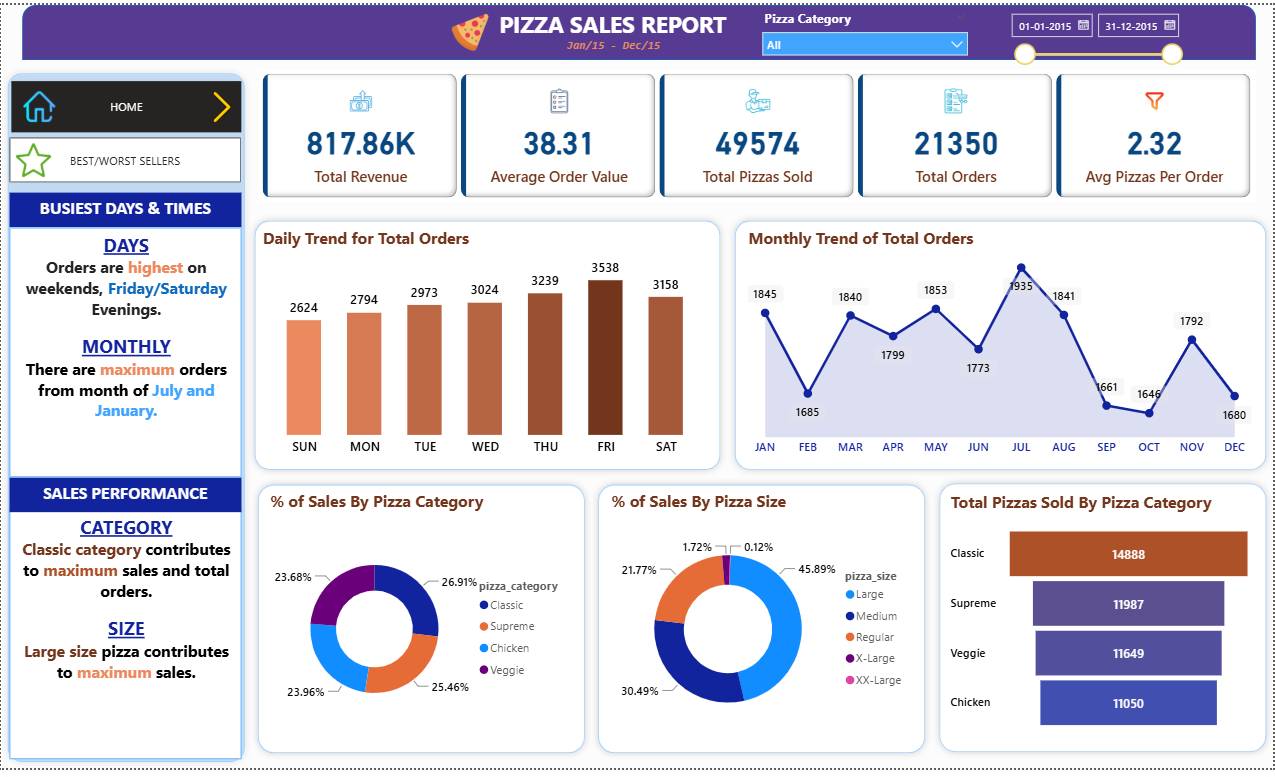

This screenshot's page, from the dashboard's own definition file:
{"tool":"powerbi","page":{"name":"HOME","canvas":[1500,900],"ordinal":0},"visuals":[{"type":"cardVisual","fields":{"Data":["pizza_sales.Total Revenue","pizza_sales.Average Order Value","pizza_sales.Total Pizzas Sold","pizza_sales.Total Orders","pizza_sales.Avg Pizzas Per Order"]},"box":[303.8,76.2,1176.2,156.2],"z":0},{"type":"shape","box":[25,0,1455,65],"z":1000},{"type":"textbox","box":[582.5,0,333.8,55],"z":2000},{"type":"textbox","box":[661.2,32.5,122.5,32.5],"z":3000},{"type":"shape","box":[0,72.3,295.3,828.1],"z":4000},{"type":"image","box":[525,5,57.5,55],"z":5000},{"type":"shape","box":[291.2,246.2,565,310],"z":6000},{"type":"columnChart","title":"Daily Trend for Total Orders","fields":{"Category":["pizza_sales.Order Day"],"Y":["pizza_sales.Total Orders"]},"box":[303.8,262.5,536.2,278.8],"z":7000},{"type":"shape","box":[857.1,245.9,642.5,309.8],"z":8000},{"type":"areaChart","title":"Monthly Trend of Total Orders","fields":{"Category":["pizza_sales.Order Month"],"Y":["pizza_sales.Total Orders"]},"box":[876.3,262.8,603.9,278.5],"z":9000},{"type":"shape","box":[295.3,556.9,401.4,332.7],"z":10000},{"type":"shape","box":[696.7,556.9,401.4,332.7],"z":11000},{"type":"shape","box":[1098.1,555.7,401.4,332.7],"z":12000},{"type":"donutChart","title":"% of Sales By Pizza Category","fields":{"Category":["pizza_sales.pizza_category"],"Y":["pizza_sales.Total Revenue"]},"box":[312.2,572.6,365.2,302.6],"z":13000},{"type":"donutChart","title":"% of Sales By Pizza Size","fields":{"Y":["pizza_sales.Total Revenue"],"Category":["pizza_sales.pizza_size"]},"box":[714.8,572.6,365.2,302.6],"z":14000},{"type":"funnel","title":"Total Pizzas Sold By Pizza Category","fields":{"Category":["pizza_sales.pizza_category"],"Y":["pizza_sales.Total Pizzas Sold"]},"box":[1115,573.8,365.2,297.7],"z":15000},{"type":"textbox","box":[9.6,221.8,273.6,41],"z":16000},{"type":"textbox","box":[9.6,262.8,273.6,294.1],"z":17000},{"type":"textbox","box":[9.6,595.5,273.6,294.1],"z":18000},{"type":"textbox","box":[9.6,556.9,273.6,41],"z":19000},{"type":"slicer","fields":{"Values":["pizza_sales.pizza_category"]},"box":[887.2,0,262.8,60.3],"z":20000},{"type":"slicer","fields":{"Values":["pizza_sales.order_date"]},"box":[1178.9,0,223,72.3],"z":21000},{"type":"pageNavigator","box":[12.5,90,271.2,60],"z":22000},{"type":"pageNavigator","box":[10,156.2,273.8,53.8],"z":23000},{"type":"image","box":[237.5,96.2,46.2,47.5],"z":24000},{"type":"image","box":[18.8,96.2,52.5,47.5],"z":25000},{"type":"image","box":[6.2,157.5,65,51.2],"z":26000}]}

Visuals, with their boxes in screenshot pixels (x1, y1, x2, y2), scaled from the page's 1500x900 canvas onto the 1275x777 screenshot:
cardVisual - pizza_sales.Total Revenue x pizza_sales.Average Order Value: {"left": 258, "top": 66, "right": 1258, "bottom": 201}
shape: {"left": 21, "top": 0, "right": 1258, "bottom": 56}
textbox: {"left": 495, "top": 0, "right": 779, "bottom": 47}
textbox: {"left": 562, "top": 28, "right": 666, "bottom": 56}
shape: {"left": 0, "top": 62, "right": 251, "bottom": 776}
image: {"left": 446, "top": 4, "right": 495, "bottom": 52}
shape: {"left": 248, "top": 213, "right": 728, "bottom": 480}
"Daily Trend for Total Orders" columnChart: {"left": 258, "top": 227, "right": 714, "bottom": 467}
shape: {"left": 729, "top": 212, "right": 1274, "bottom": 480}
"Monthly Trend of Total Orders" areaChart: {"left": 745, "top": 227, "right": 1258, "bottom": 467}
shape: {"left": 251, "top": 481, "right": 592, "bottom": 768}
shape: {"left": 592, "top": 481, "right": 933, "bottom": 768}
shape: {"left": 933, "top": 480, "right": 1274, "bottom": 767}
"% of Sales By Pizza Category" donutChart: {"left": 265, "top": 494, "right": 576, "bottom": 756}
"% of Sales By Pizza Size" donutChart: {"left": 608, "top": 494, "right": 918, "bottom": 756}
"Total Pizzas Sold By Pizza Category" funnel: {"left": 948, "top": 495, "right": 1258, "bottom": 752}
textbox: {"left": 8, "top": 191, "right": 241, "bottom": 227}
textbox: {"left": 8, "top": 227, "right": 241, "bottom": 481}
textbox: {"left": 8, "top": 514, "right": 241, "bottom": 768}
textbox: {"left": 8, "top": 481, "right": 241, "bottom": 516}
slicer - pizza_sales.pizza_category: {"left": 754, "top": 0, "right": 978, "bottom": 52}
slicer - pizza_sales.order_date: {"left": 1002, "top": 0, "right": 1192, "bottom": 62}
pageNavigator: {"left": 11, "top": 78, "right": 241, "bottom": 130}
pageNavigator: {"left": 8, "top": 135, "right": 241, "bottom": 181}
image: {"left": 202, "top": 83, "right": 241, "bottom": 124}
image: {"left": 16, "top": 83, "right": 61, "bottom": 124}
image: {"left": 5, "top": 136, "right": 61, "bottom": 180}
